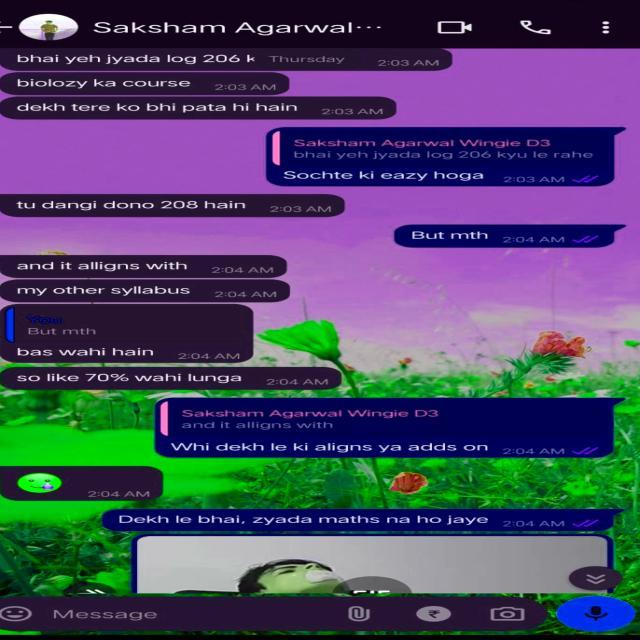scam: (0, 306, 254, 363), (2, 48, 456, 72), (0, 95, 402, 121), (0, 192, 349, 218), (1, 368, 344, 390), (0, 72, 295, 96), (0, 280, 294, 304), (0, 464, 166, 502), (0, 256, 292, 277)
